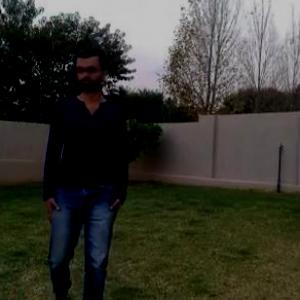follow: (37, 32, 136, 299)
